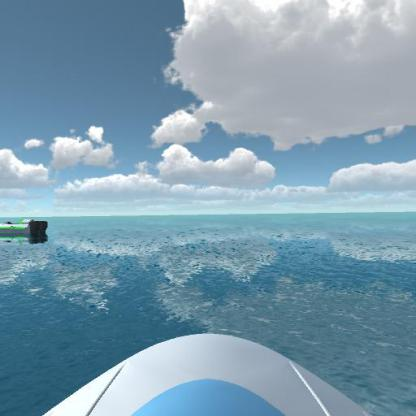usv0: (0, 216, 54, 244)
